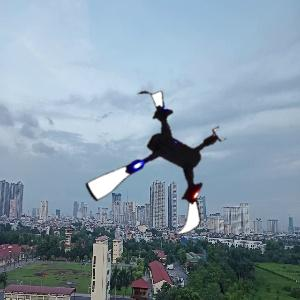drone: (81, 90, 236, 245)
